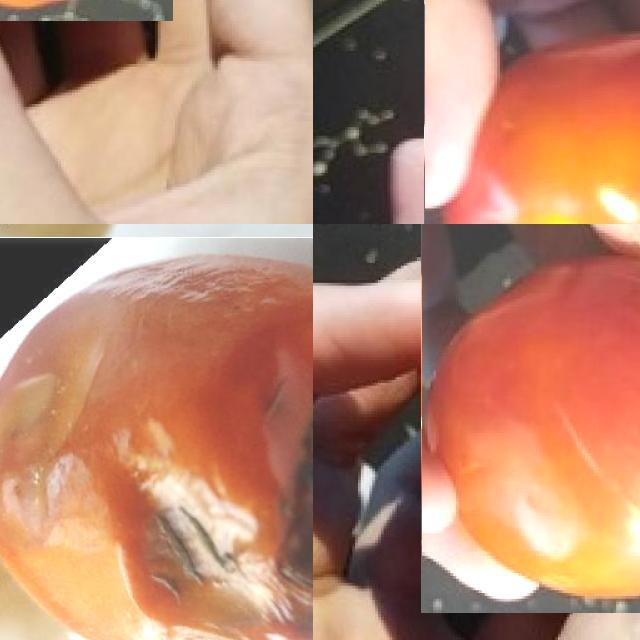Fresh Tomato: (424, 0, 640, 224)
Rotten Tomato: (0, 237, 313, 640), (421, 224, 640, 613)
